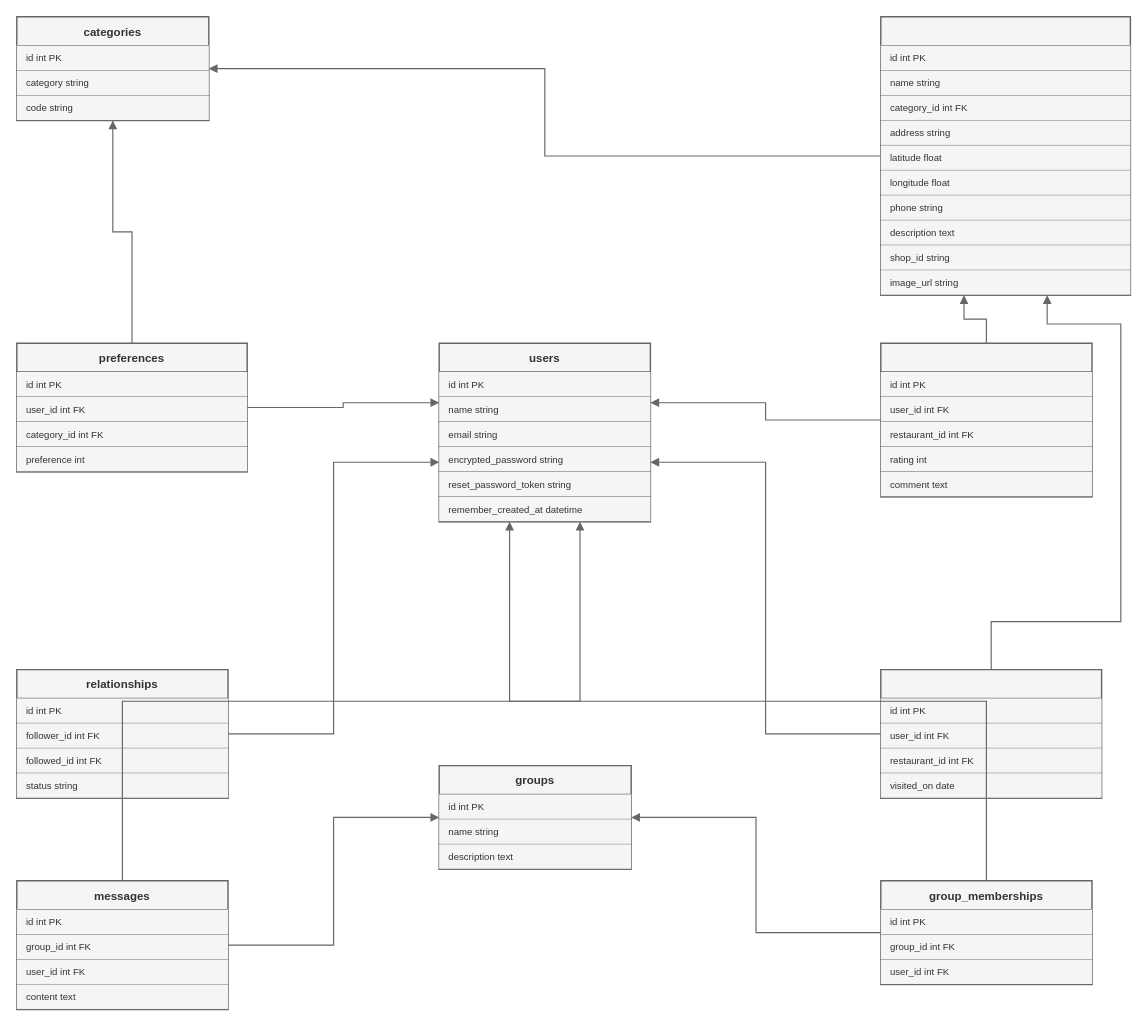
The diagram is 1148 pixels wide and 1027 high, and some of its shapes have lost their labels. Each missing label, with the box of its shape:
restaurants: (880, 16, 1131, 295)
reviews: (880, 342, 1092, 497)
visit_histories: (880, 668, 1102, 799)
